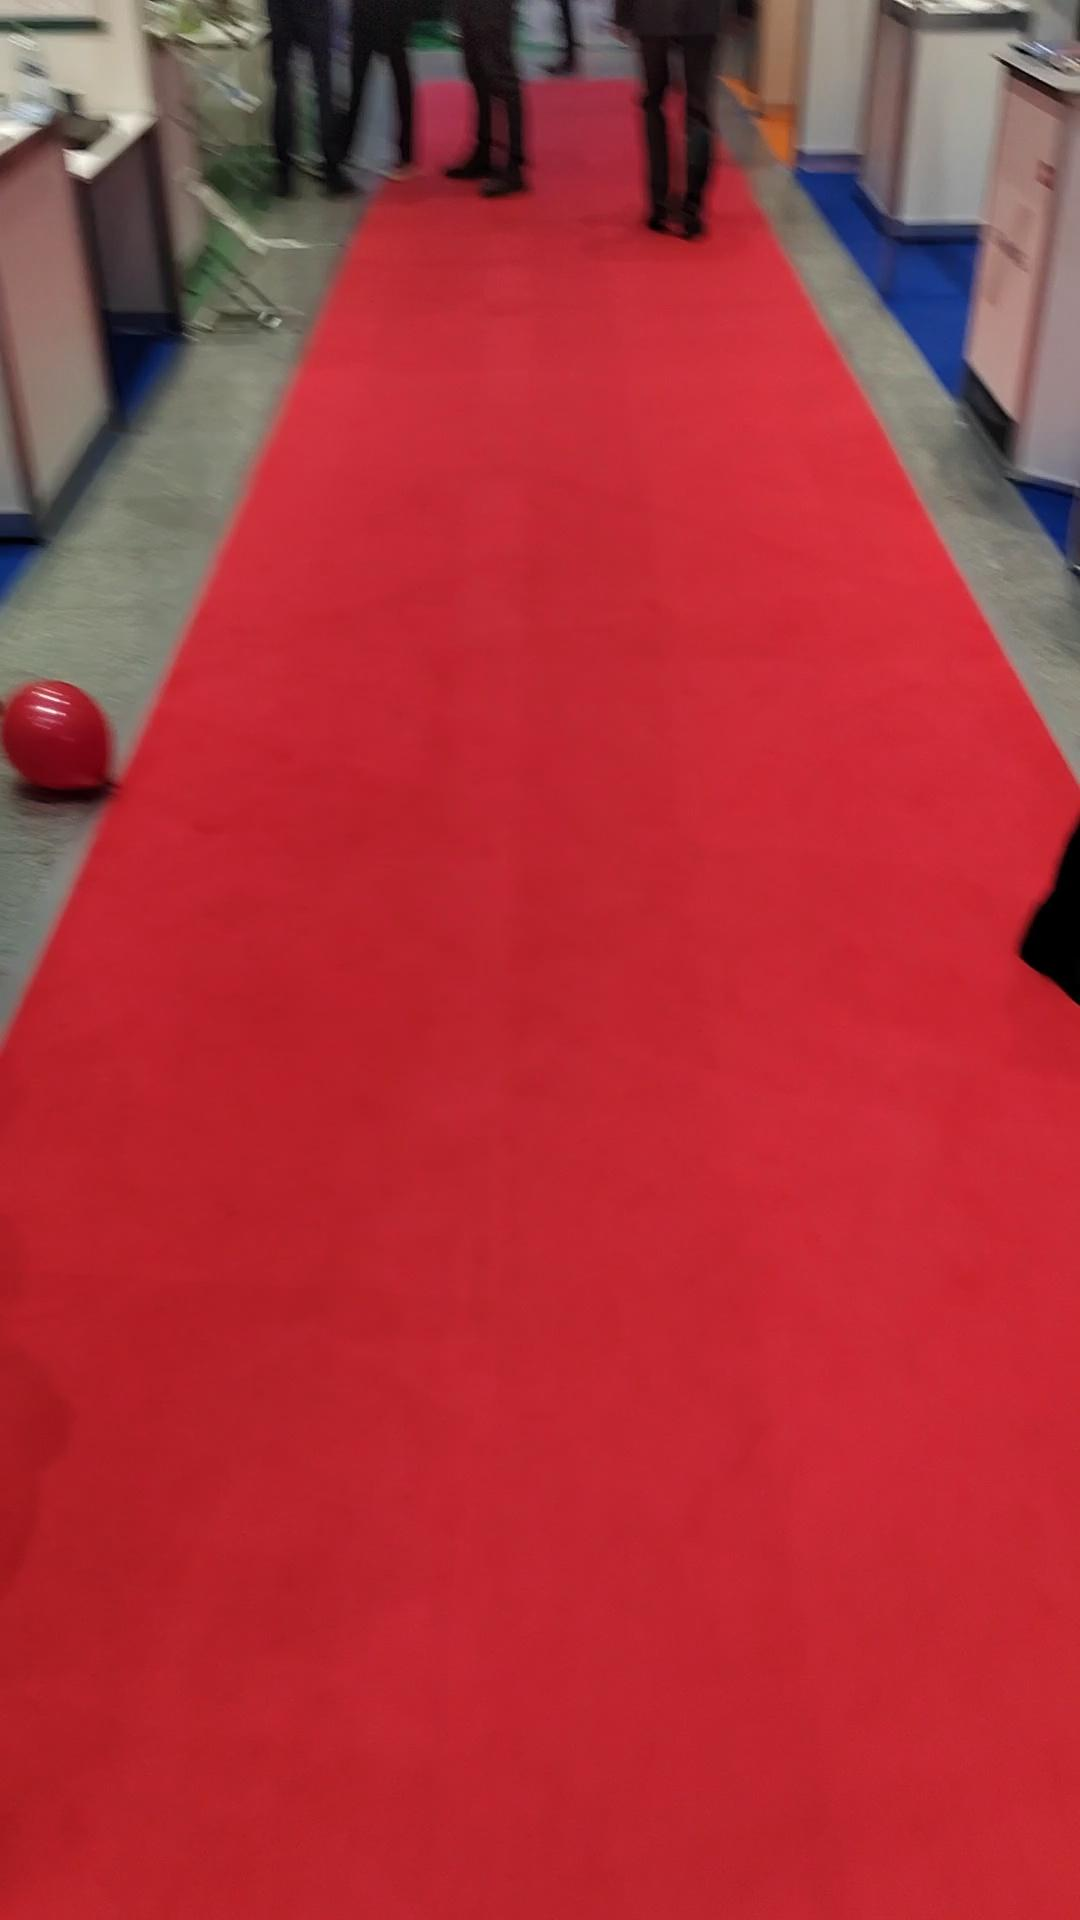red: (0, 671, 137, 824)
